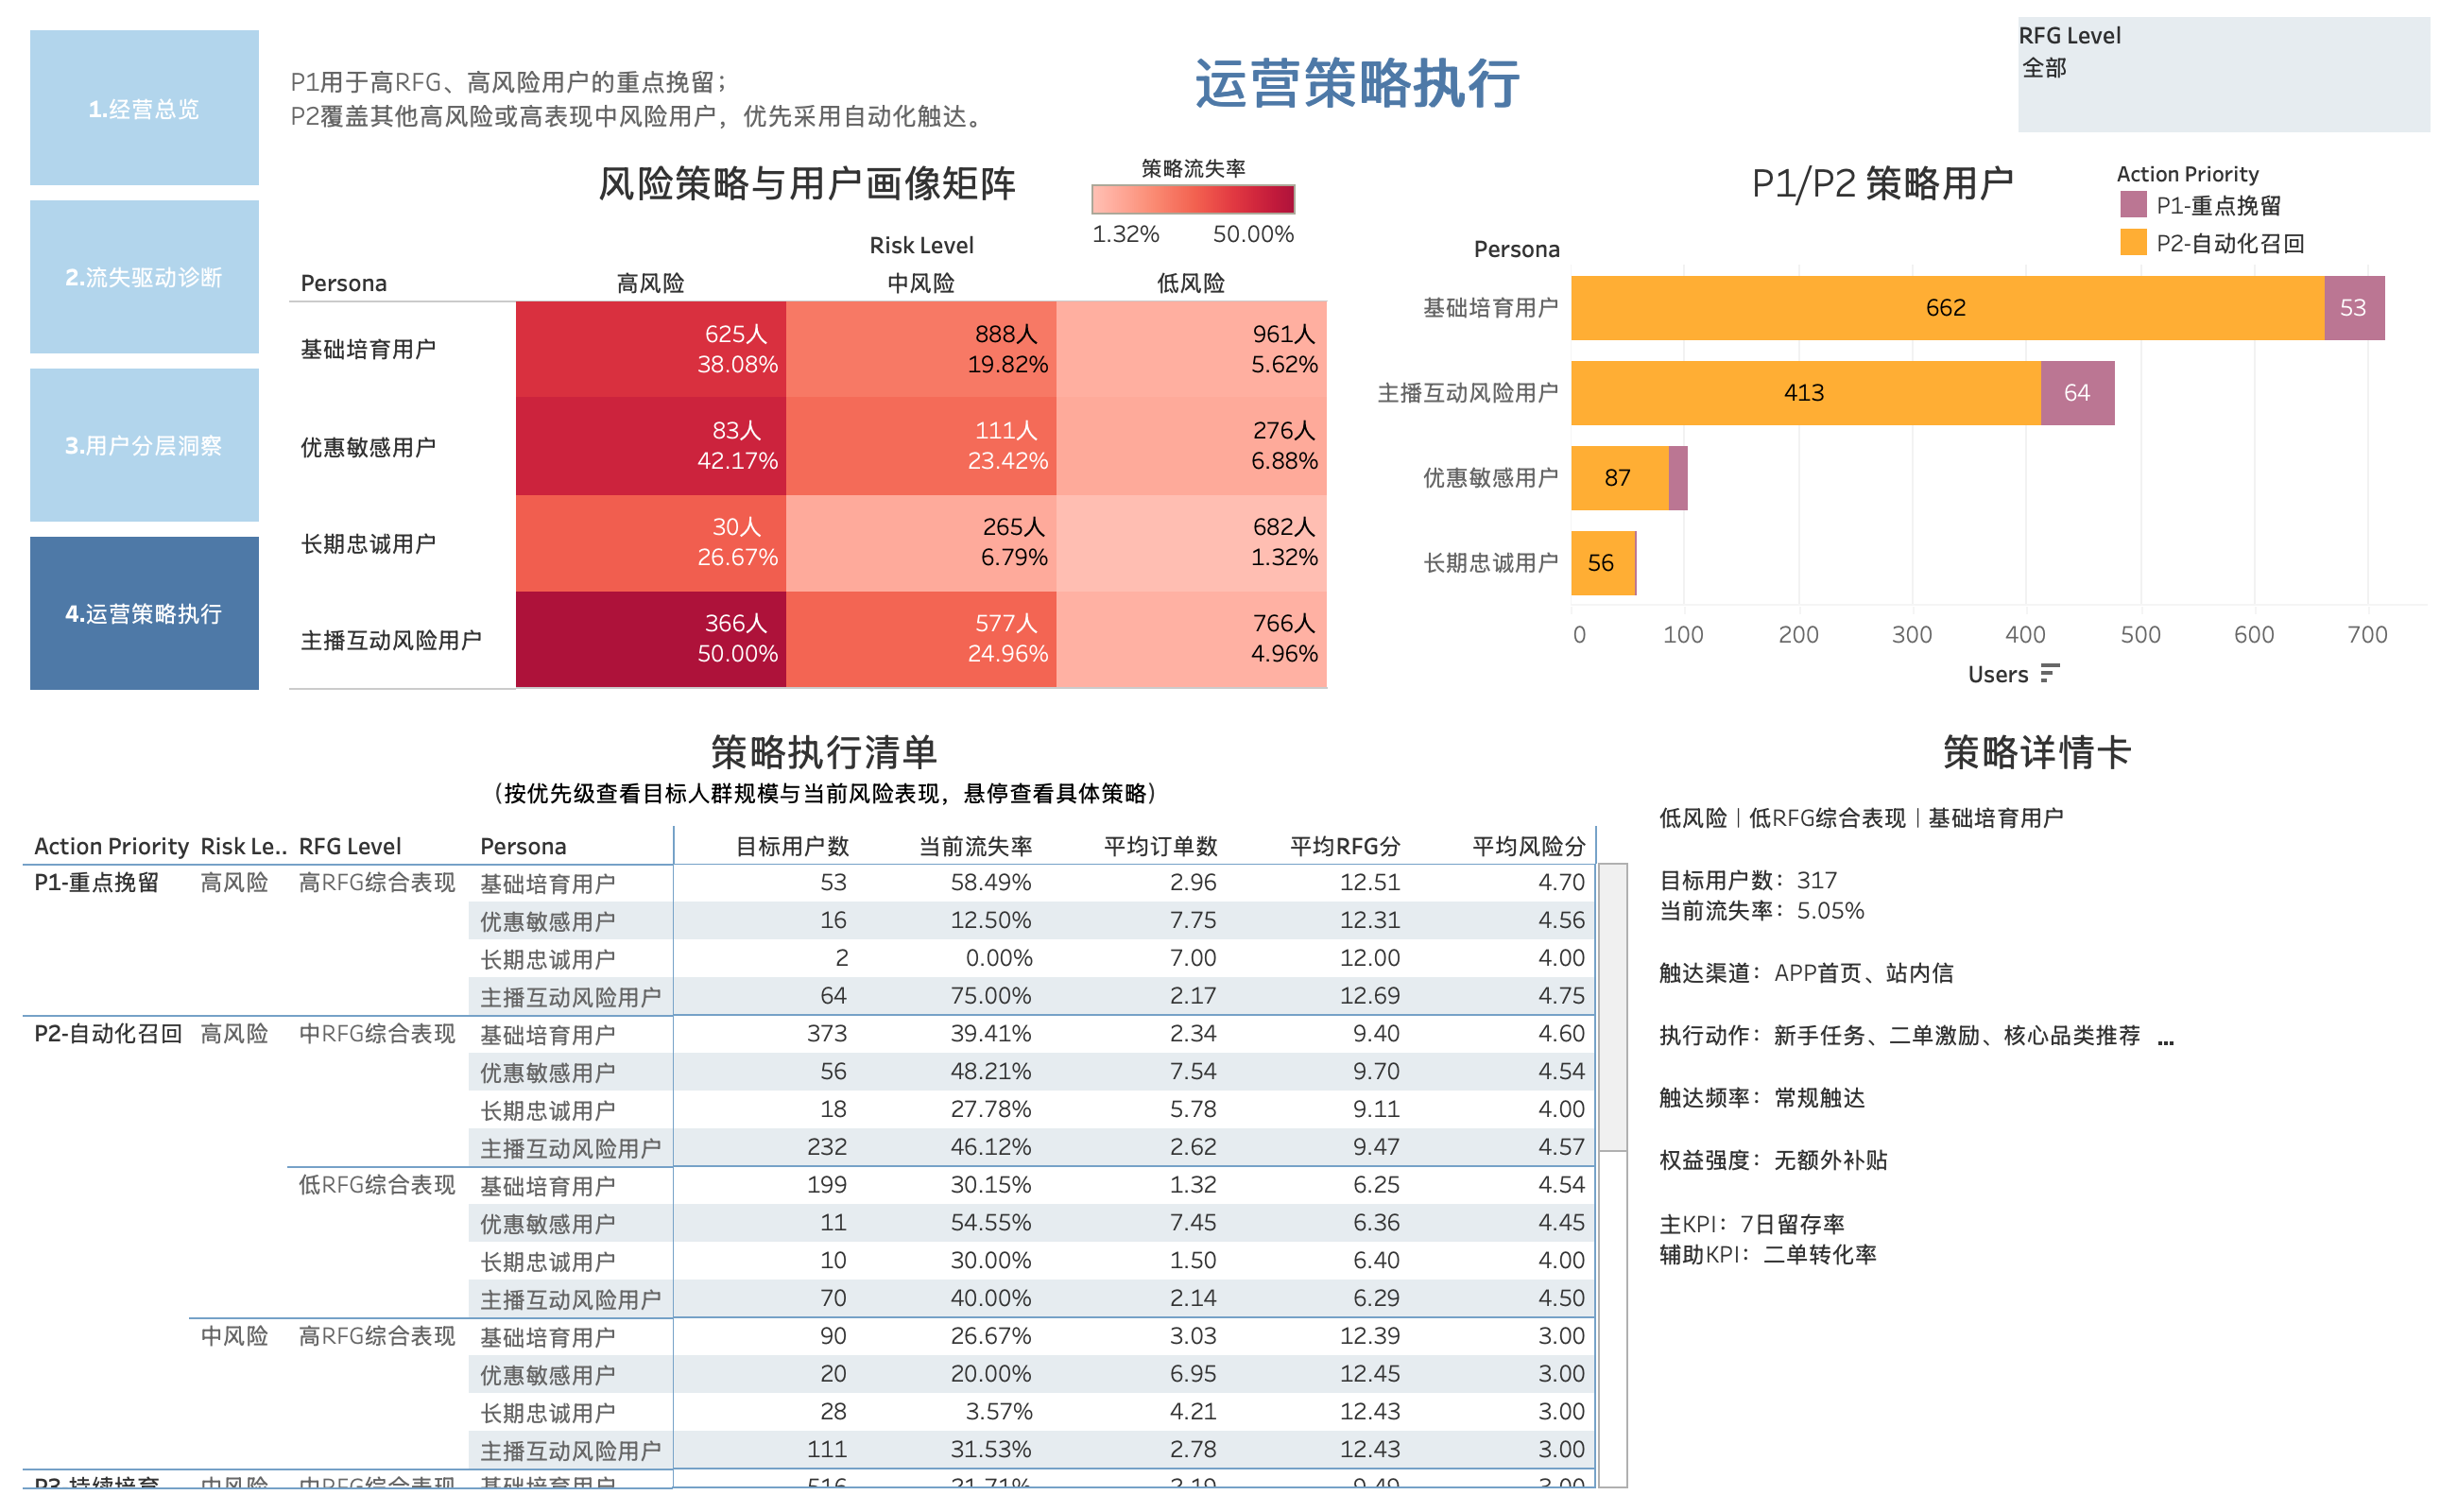

This screenshot's page, from the dashboard's own definition file:
{"tool":"tableau","page":{"name":"DB4 运营策略执行","canvas":[1300,800],"ordinal":3},"visuals":[{"type":"filter","title":"4.2Persona与风险策略矩阵","param":"[federated.13m4qnt1hd07go1amw2uh0m5vrcg].[none:RFG_Level:nk]","box":[1068,9,218,61]},{"type":"dashboard-object","box":[12,12,129,90]},{"type":"title","box":[149,12,1139,60]},{"type":"text","box":[151,24,382,55]},{"type":"worksheet","title":"4.2Persona与风险策略矩阵","mark":"Square","rows":["Persona"],"cols":["RiskLevel"],"box":[149,72,558,297]},{"type":"worksheet","title":"4.1P1/P2策略执行","mark":"Bar","rows":["Persona"],"cols":["Users"],"box":[707,72,581,297]},{"type":"legend","title":"4.2Persona与风险策略矩阵","param":"[federated.13m4qnt1hd07go1amw2uh0m5vrcg].[usr:Calculation_0426849419034668:qk]","box":[574,77,116,55]},{"type":"legend","title":"4.1P1/P2策略执行","param":"[federated.13m4qnt1hd07go1amw2uh0m5vrcg].[none:ActionPriority:nk]","box":[1119,82,155,61]},{"type":"dashboard-object","box":[12,102,129,89]},{"type":"dashboard-object","box":[12,191,129,89]},{"type":"dashboard-object","box":[12,280,129,89]},{"type":"worksheet","title":"4.3策略执行明细表","mark":"Text","rows":["ActionPriority","RiskLevel","RFG_Level","Persona"],"box":[8,373,857.9,419]},{"type":"worksheet","title":"4.4选中策略详情卡","mark":"Automatic","box":[865.9,373,426.1,419]}]}

Visuals, with their boxes in screenshot pixels (x1, y1, x2, y2), scaled from the page's 1300x800 canvas onto the 2457x1512 screenshot:
"4.2Persona与风险策略矩阵" filter: [2019,17,2431,132]
dashboard-object: [23,23,266,193]
title: [282,23,2434,136]
text: [285,45,1007,149]
"4.2Persona与风险策略矩阵" worksheet (Square marks): [282,136,1336,697]
"4.1P1/P2策略执行" worksheet (Bar marks): [1336,136,2434,697]
"4.2Persona与风险策略矩阵" legend: [1085,146,1304,249]
"4.1P1/P2策略执行" legend: [2115,155,2408,270]
dashboard-object: [23,193,266,361]
dashboard-object: [23,361,266,529]
dashboard-object: [23,529,266,697]
"4.3策略执行明细表" worksheet (Text marks): [15,705,1637,1497]
"4.4选中策略详情卡" worksheet: [1637,705,2442,1497]
